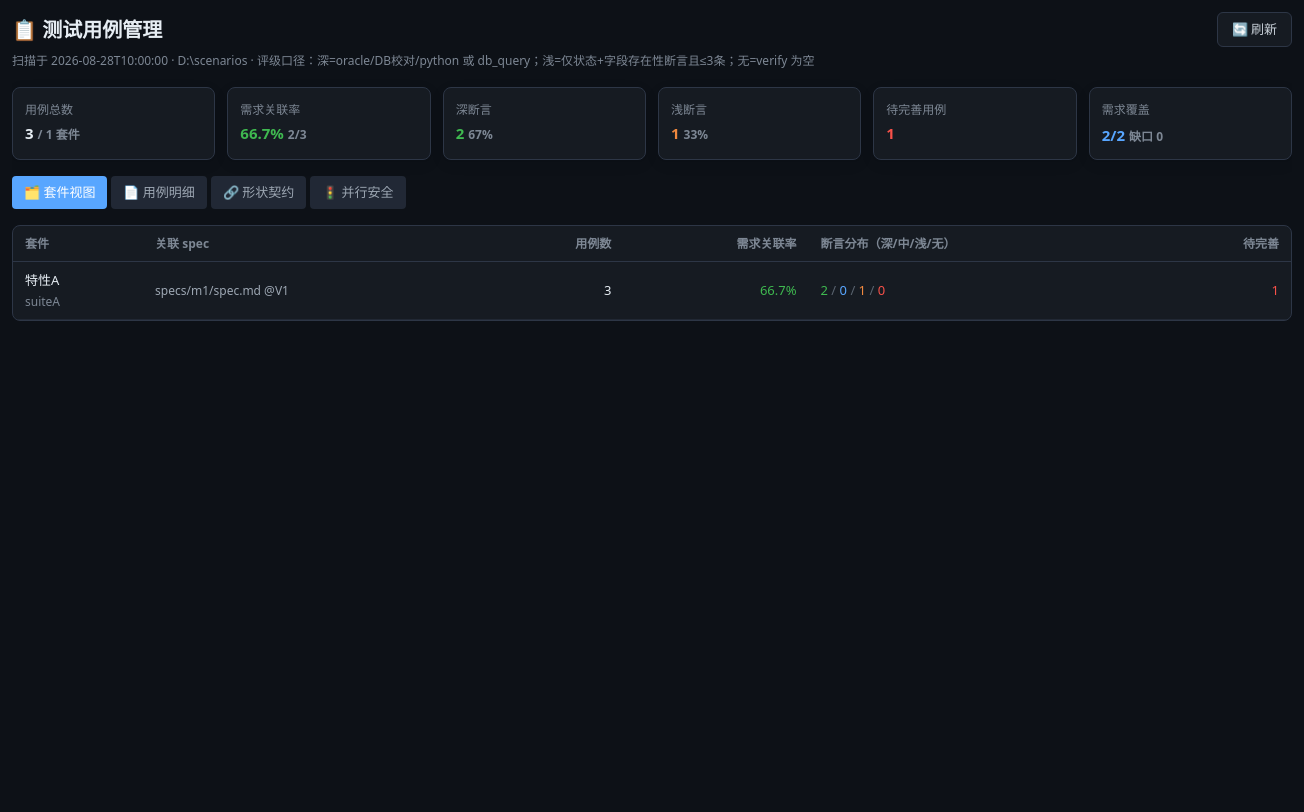
Scenario: ScenarioQuality 测试用例管理页 › 页签切换持久化，明细页展示用例行与关联需求列
Check: the text "特性A" is shown, box top-left (25, 271), bottom-right (59, 289)
Click the button "📄 用例明细". click: click(159, 192)
box: top-left (111, 176), bottom-right (207, 209)
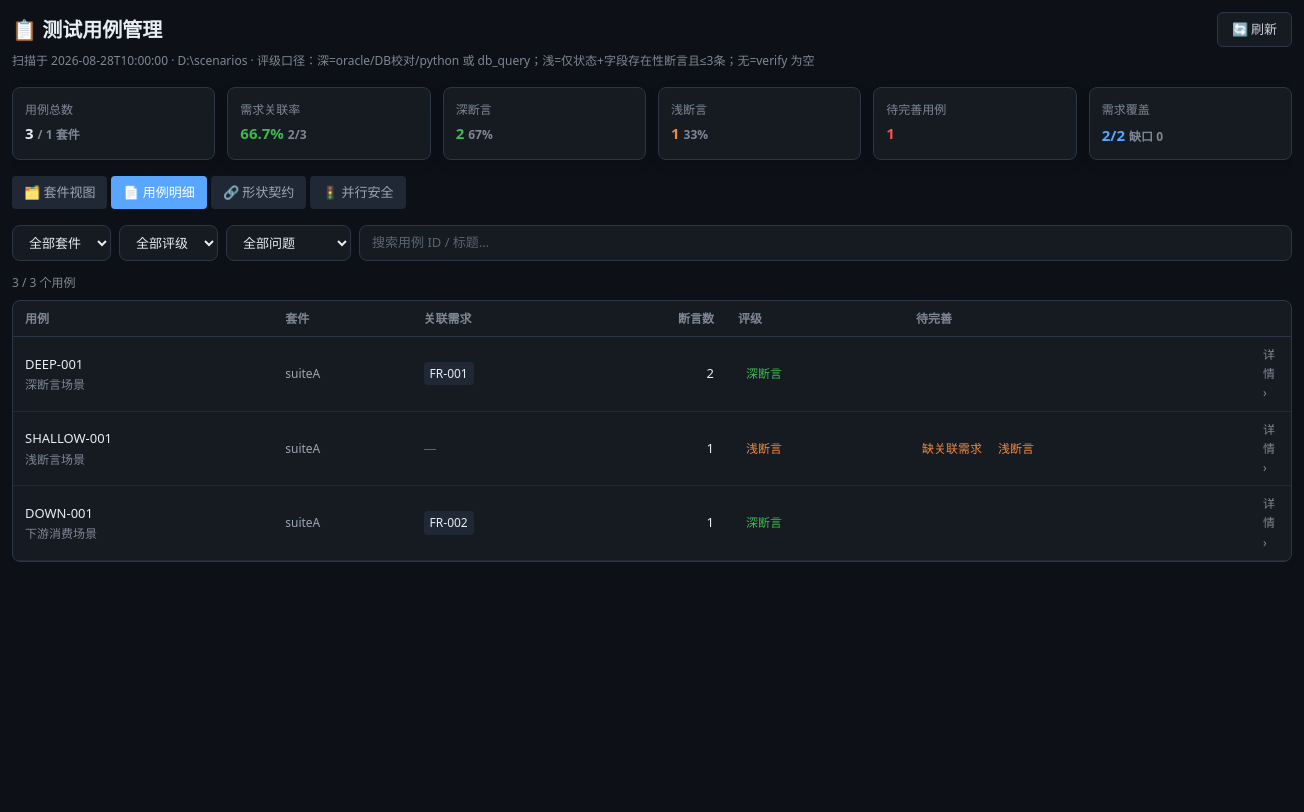
Check: the text "DEEP-001" is shown, box top-left (25, 354), bottom-right (83, 372)
Check: the column heading "关联需求" is shown, box top-left (412, 301), bottom-right (585, 337)
Check: the text titled "FR-001：查询功能（module1/feature1）" is shown, box top-left (424, 362), bottom-right (474, 386)
